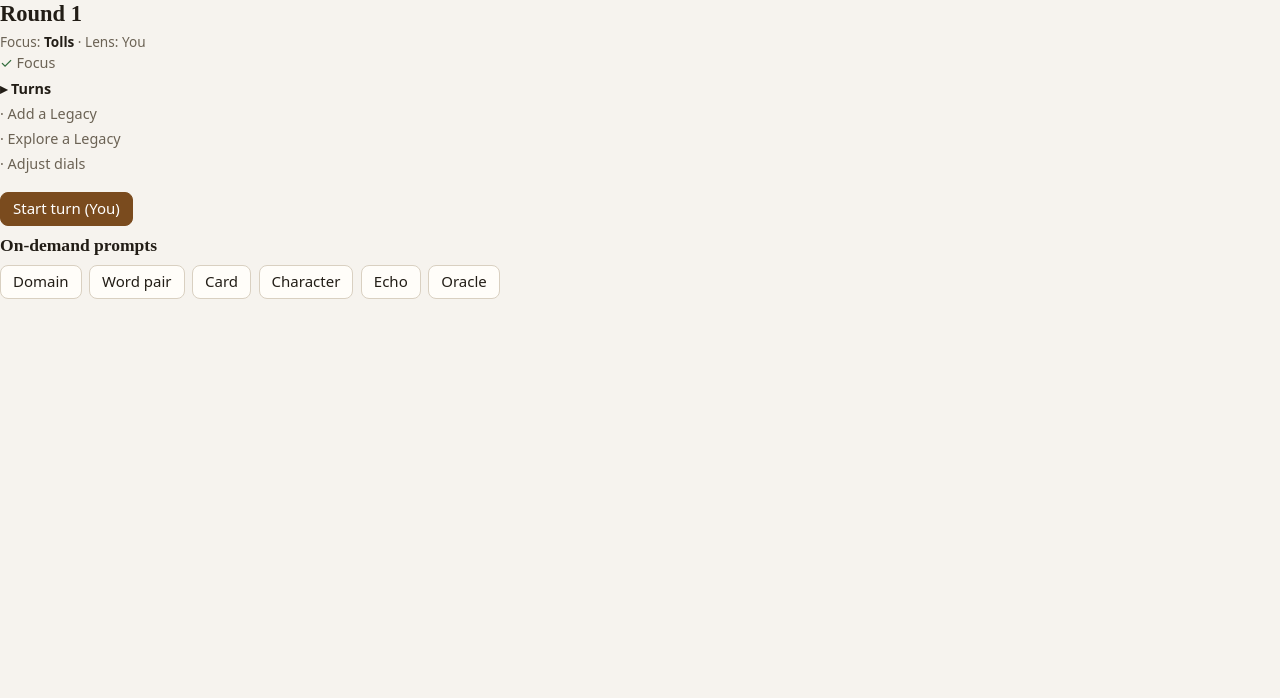
Test: Scene frame › Question idea is hidden when no question table is active
Click the button "Start turn (You)" at (66,209), box [0, 192, 133, 226]
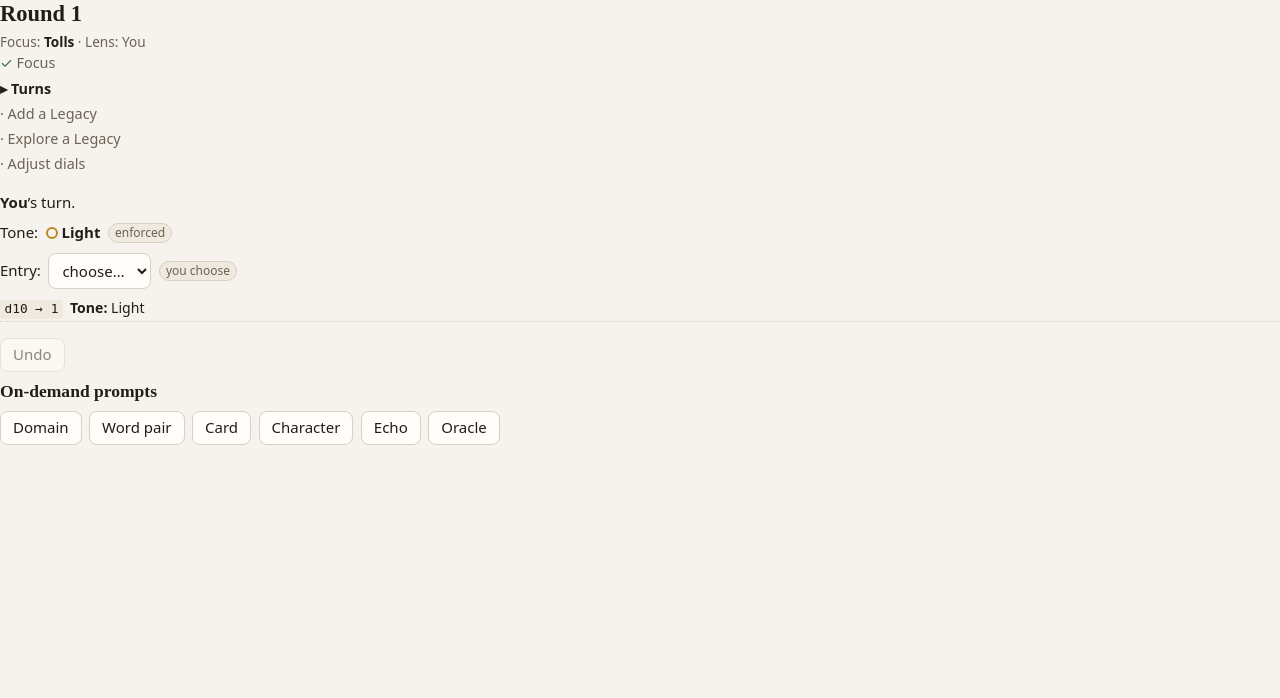
Select "Scene" in the dropdown named "Entry type" at (100,271), box [48, 253, 151, 289]
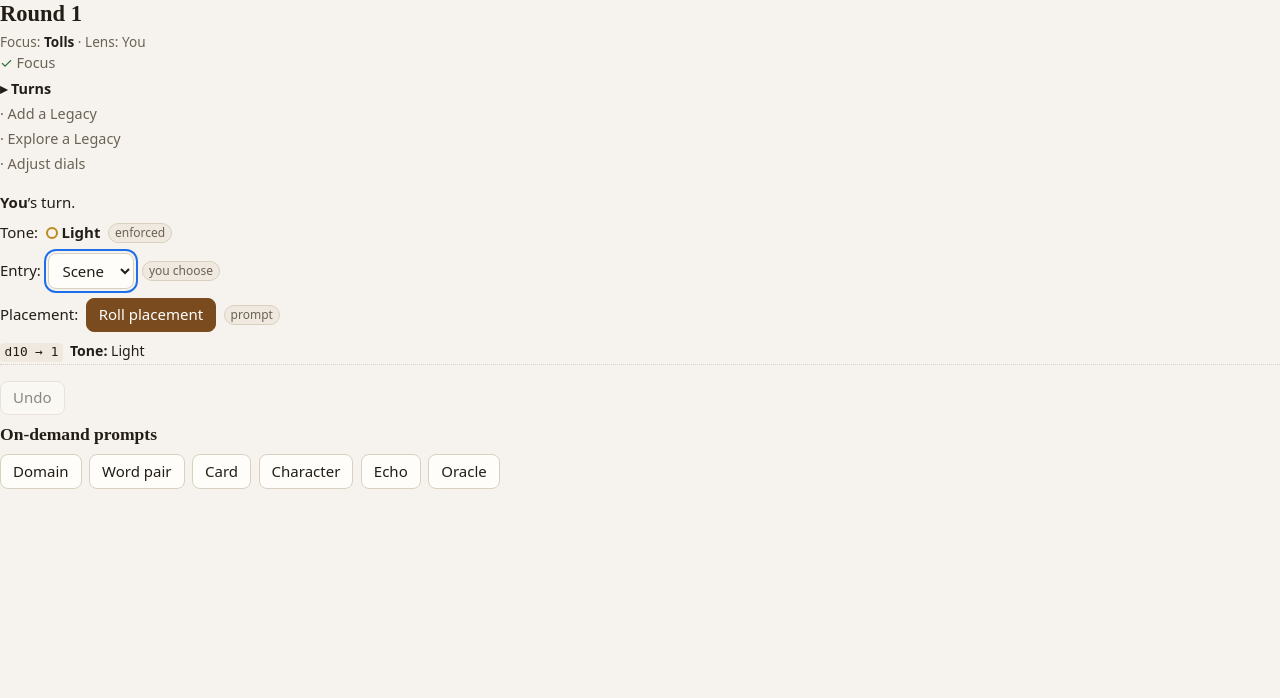
Click the button "Roll placement" at (151,315), box [86, 298, 216, 332]
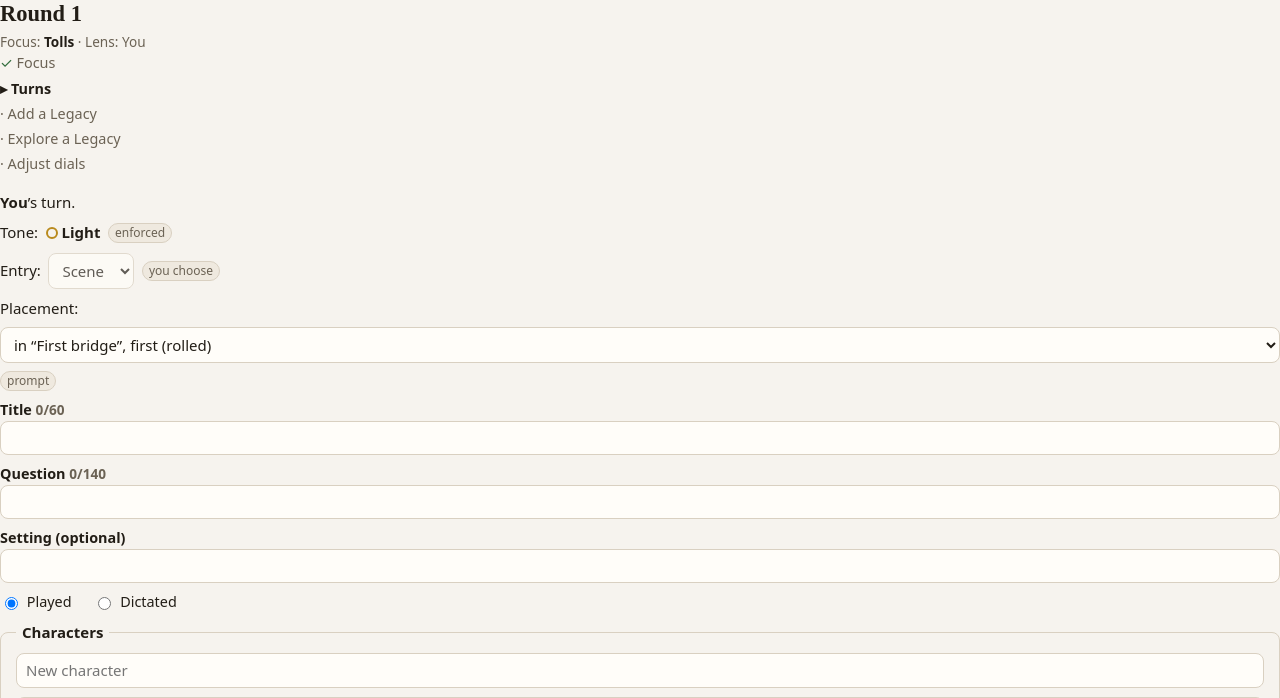
expect the field labelled "Question 0/140" is shown: met, box [0, 485, 1279, 519]
